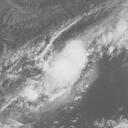cyclone: (14, 30, 105, 111)
